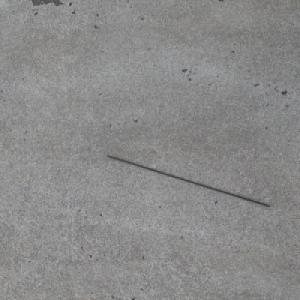LuggagePart: (104, 154, 272, 207)
